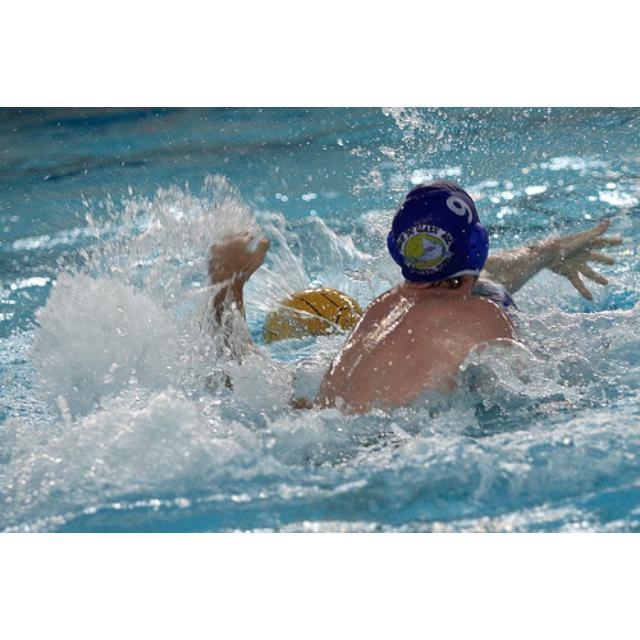human: (313, 180, 528, 420)
